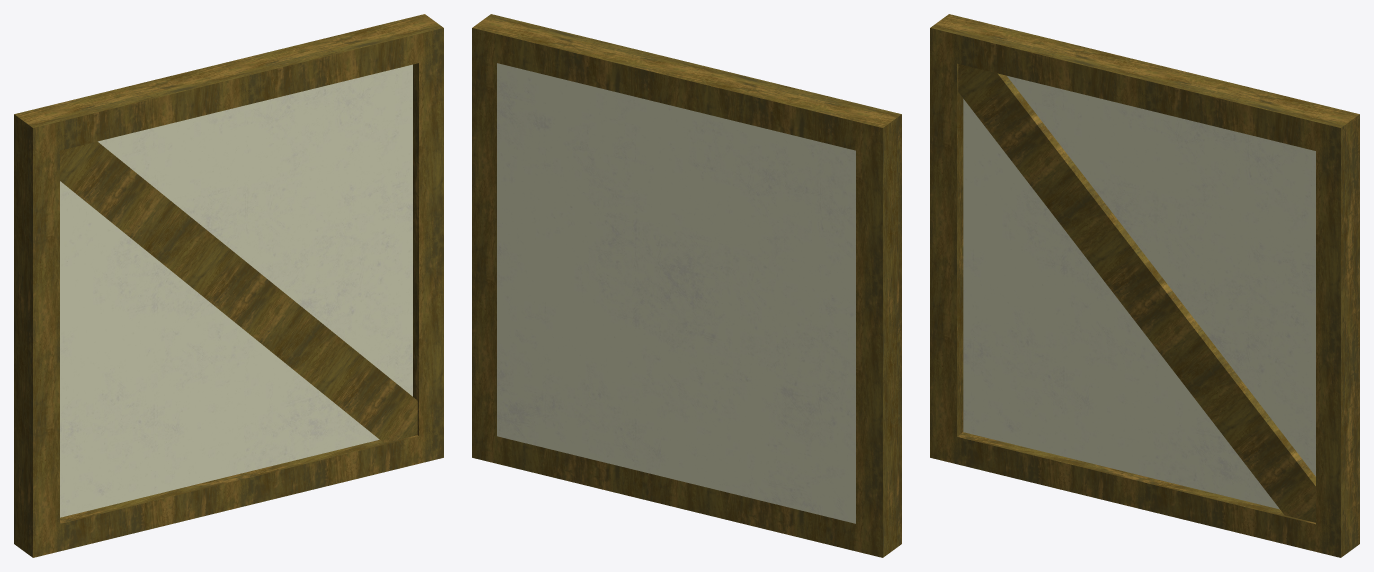
The model's file is Wall Cross Left.fbx.
3 renders of one model, left to right at view 1: azimuth 30°, elevation 25°; view 2: azimuth 150°, elevation 25°; view 3: azimuth 330°, elevation 25°, orthographic.
Parts seen in each view (by area): view 1: Wall_Cross_Left; view 2: Wall_Cross_Left; view 3: Wall_Cross_Left.
Part boxes in pixels (x1,y1,x2,y2): Wall_Cross_Left: (14,14,443,557); Wall_Cross_Left: (472,14,901,557); Wall_Cross_Left: (930,14,1359,557).
Bounding box in the file's own units: 312 × 312 × 25.
